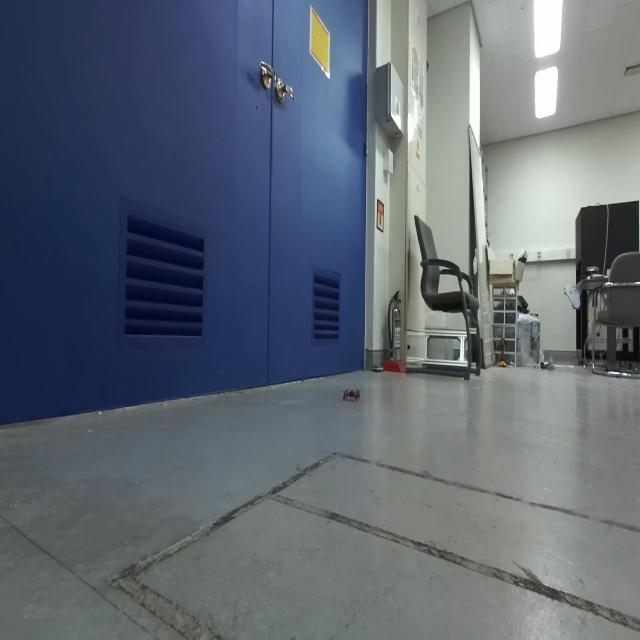crazyflie: (339, 383, 363, 406)
